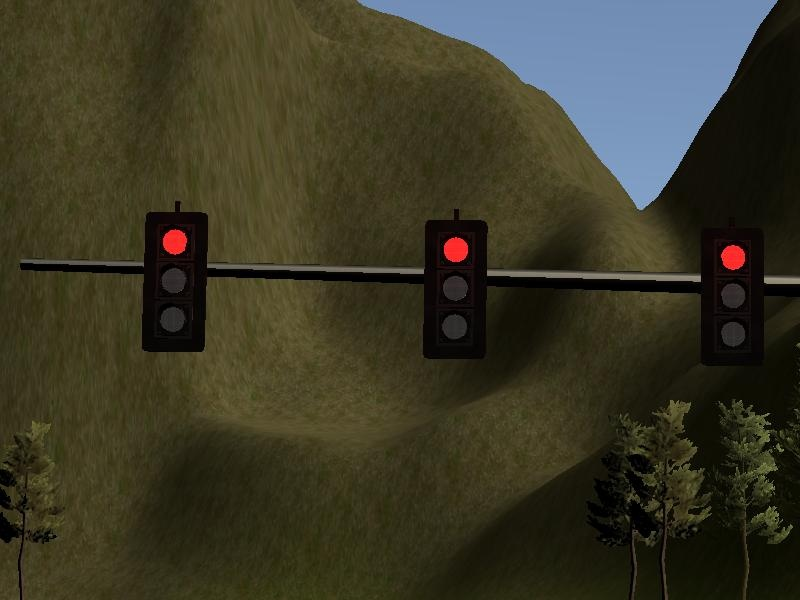RED: (142, 212, 207, 352), (423, 221, 488, 361), (699, 226, 764, 366)
